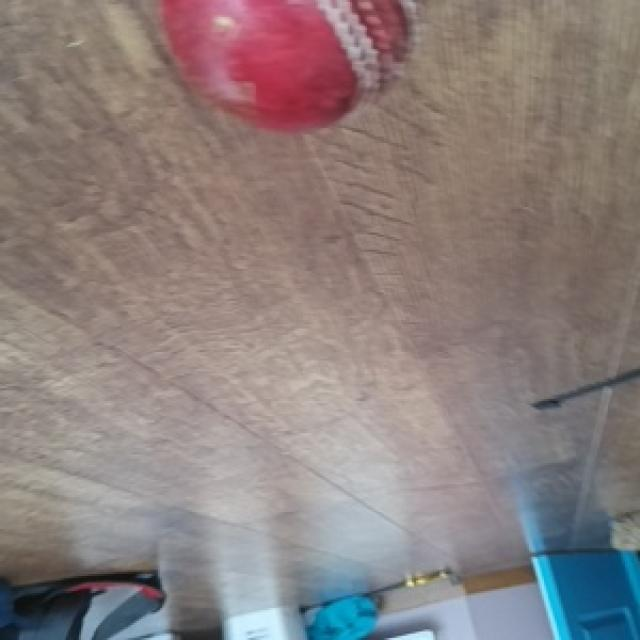ball: (147, 0, 414, 137)
